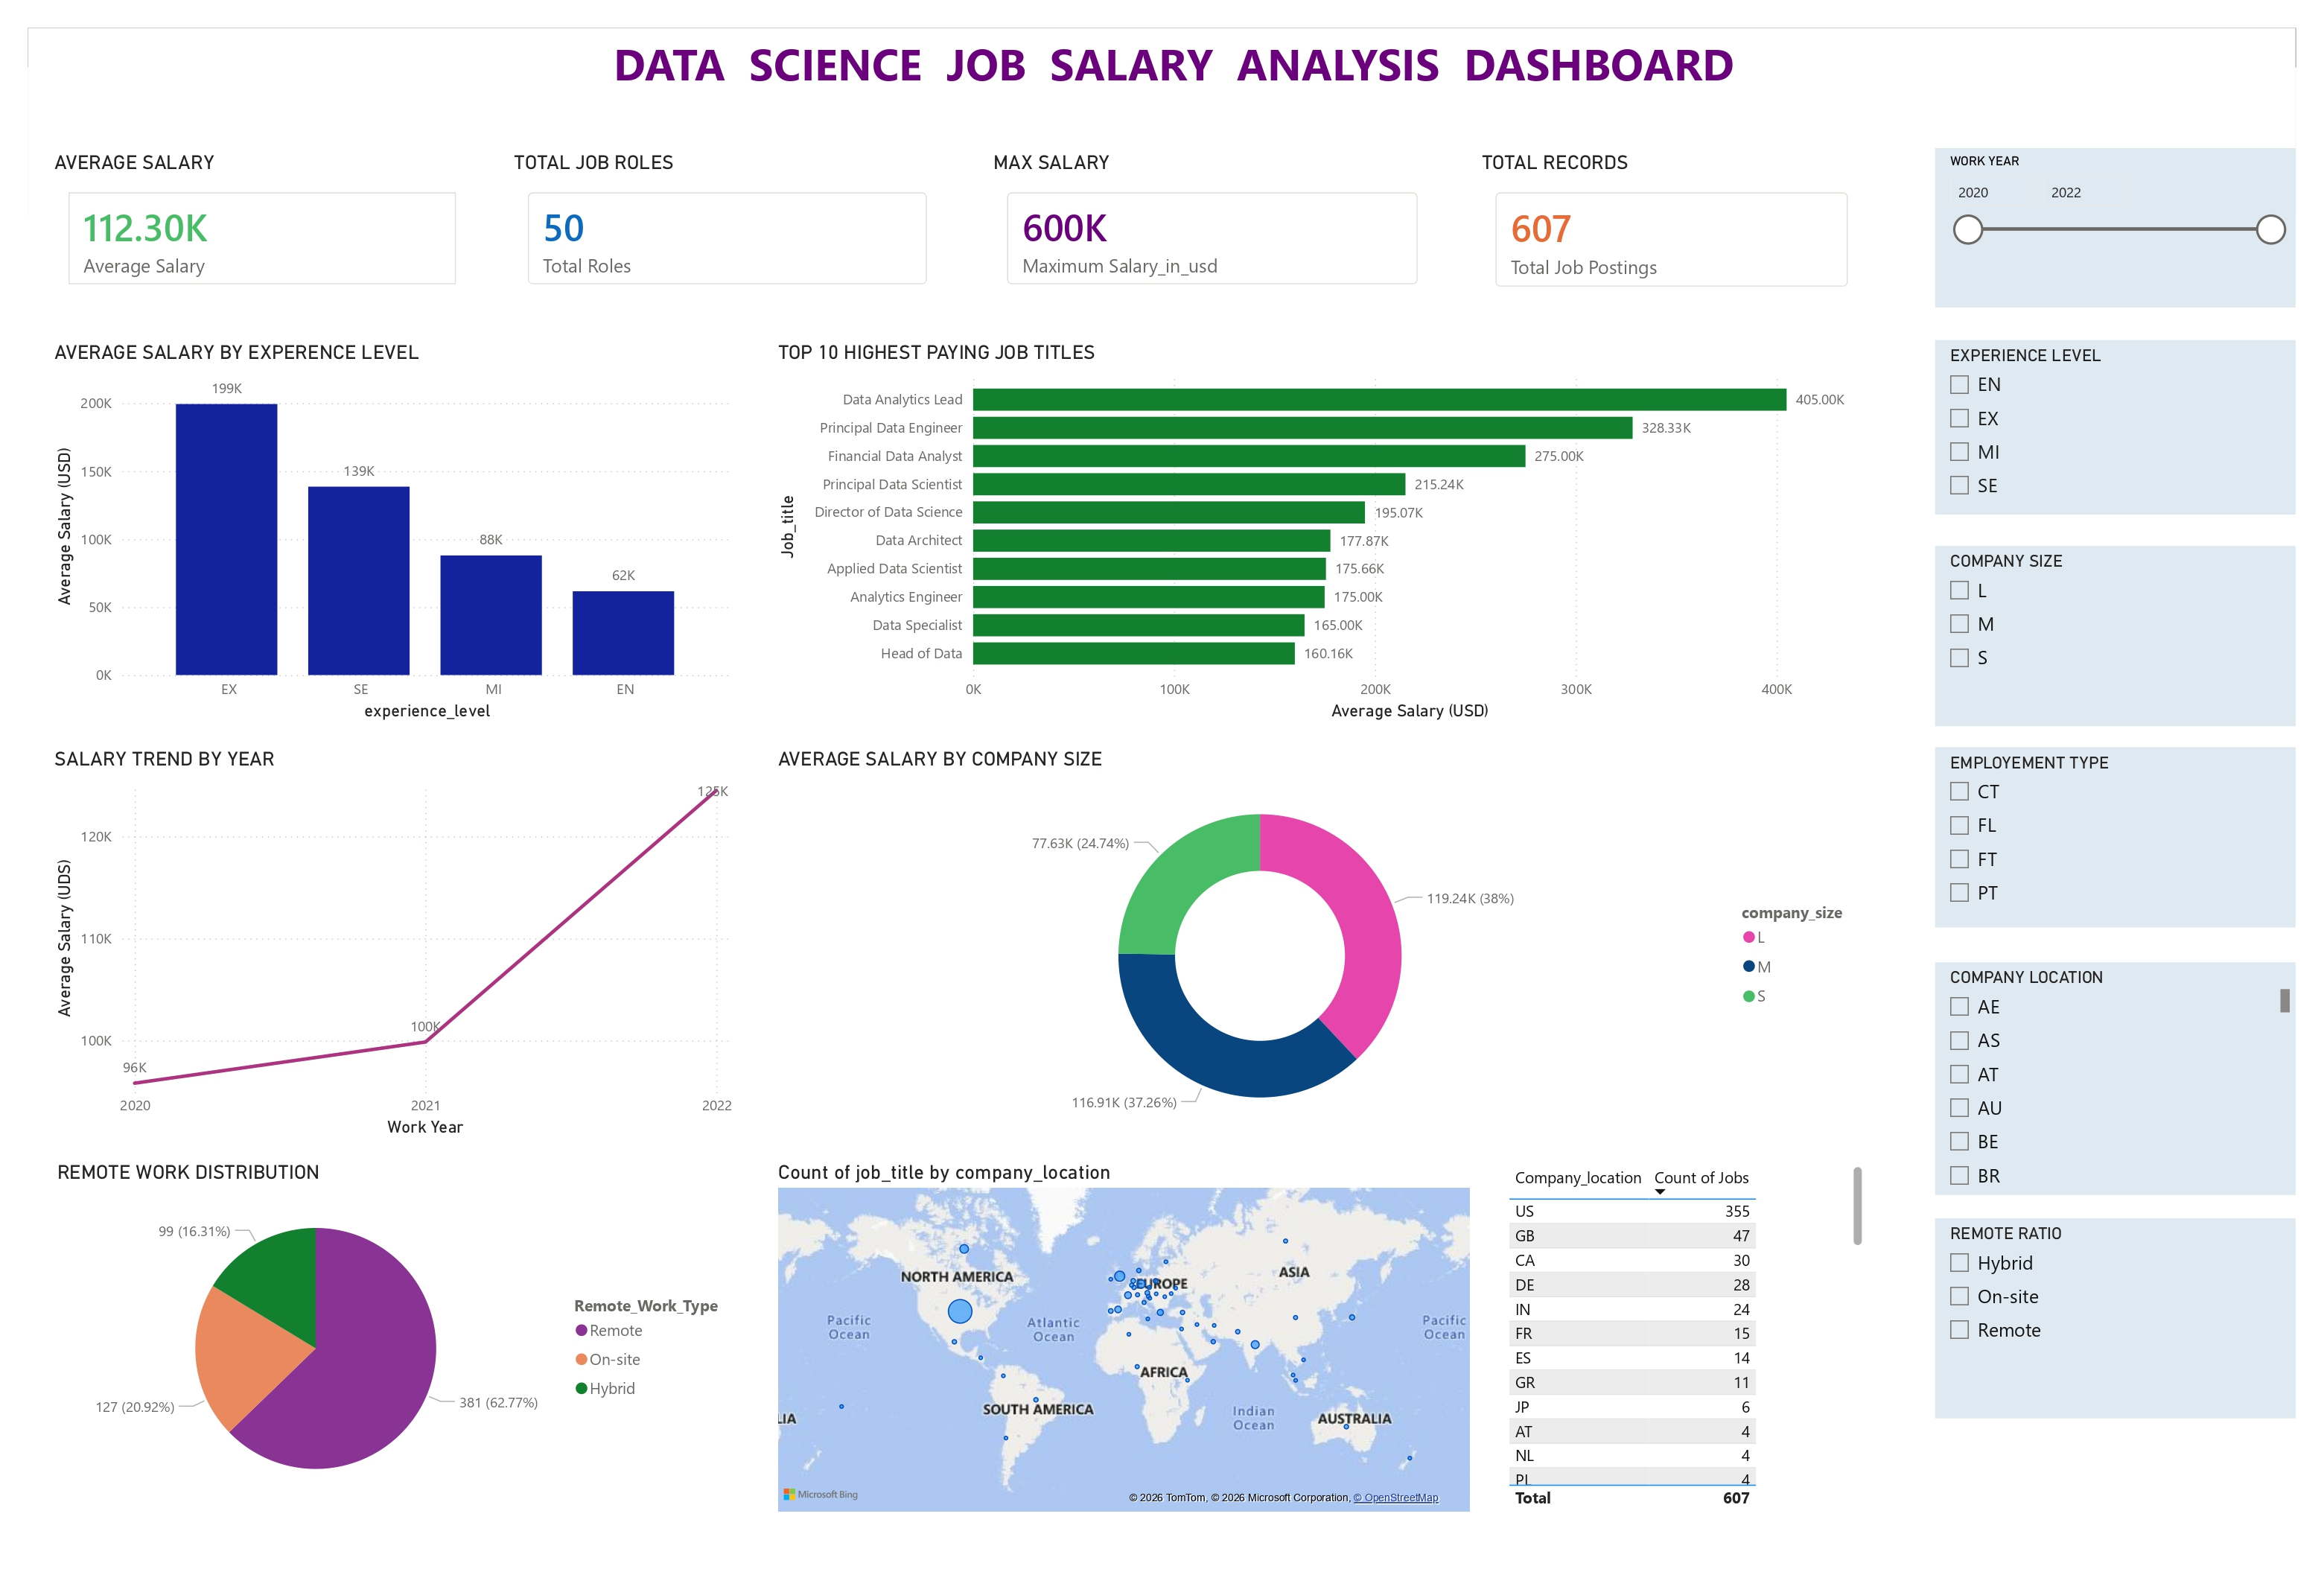

The page's visual inventory and layout, read from the dashboard file:
{"tool":"powerbi","page":{"name":"Page 1","canvas":[1950,1300],"ordinal":0},"visuals":[{"type":"cardVisual","title":"AVERAGE SALARY","fields":{"Data":["Avg(cleaned_ds_salaries csv.salary_in_usd)"]},"box":[17.5,105,367.5,132.5],"z":0},{"type":"cardVisual","title":"TOTAL JOB ROLES","fields":{"Data":["Count(cleaned_ds_salaries csv.job_title)"]},"box":[412.5,105,377.5,132.5],"z":1000},{"type":"clusteredColumnChart","title":"AVERAGE SALARY BY EXPERENCE LEVEL","fields":{"Category":["cleaned_ds_salaries csv.experience_level"],"Y":["Avg(cleaned_ds_salaries csv.salary_in_usd)"]},"box":[17.5,267.5,592.5,332.5],"z":2000},{"type":"clusteredBarChart","title":"TOP 10 HIGHEST PAYING JOB TITLES","fields":{"Y":["Avg(cleaned_ds_salaries csv.salary_in_usd)"],"Category":["cleaned_ds_salaries csv.job_title"]},"box":[640,267.5,942.5,332.5],"z":3000},{"type":"lineChart","title":"SALARY TREND BY  YEAR","fields":{"Category":["cleaned_ds_salaries csv.work_year"],"Y":["Avg(cleaned_ds_salaries csv.salary_in_usd)"]},"box":[17.5,617.5,592.5,340],"z":4000},{"type":"donutChart","title":"AVERAGE SALARY BY COMPANY SIZE","fields":{"Category":["cleaned_ds_salaries csv.company_size"],"Y":["Avg(cleaned_ds_salaries csv.salary_in_usd)"]},"box":[640,617.5,942.5,340],"z":5000},{"type":"cardVisual","title":"MAX SALARY","fields":{"Data":["Max(cleaned_ds_salaries csv.salary_in_usd)"]},"box":[825,105,387.5,132.5],"z":6000},{"type":"cardVisual","title":"TOTAL RECORDS","fields":{"Data":["CountNonNull(cleaned_ds_salaries csv.salary_in_usd)"]},"box":[1245,105,337.5,135],"z":7000},{"type":"pieChart","title":"REMOTE WORK DISTRIBUTION","fields":{"Y":["CountNonNull(cleaned_ds_salaries csv.remote_ratio)"],"Category":["cleaned_ds_salaries csv.Remote_Work_Type"]},"box":[20,972.5,592.5,305],"z":8000},{"type":"map","fields":{"Category":["cleaned_ds_salaries csv.company_location"],"Size":["CountNonNull(cleaned_ds_salaries csv.job_title)"]},"box":[640,972.5,605,307.5],"z":9000},{"type":"slicer","title":"WORK YEAR","fields":{"Values":["cleaned_ds_salaries csv.work_year"]},"box":[1640,102.5,310,137.5],"z":10000},{"type":"slicer","title":"EXPERIENCE LEVEL","fields":{"Values":["cleaned_ds_salaries csv.experience_level"]},"box":[1640,267.5,310,150],"z":11000},{"type":"slicer","fields":{"Values":["cleaned_ds_salaries csv.company_size"]},"box":[1640,445,310,155],"z":12000},{"type":"slicer","fields":{"Values":["cleaned_ds_salaries csv.employment_type"]},"box":[1640,617.5,310,155],"z":13000},{"type":"slicer","fields":{"Values":["cleaned_ds_salaries csv.company_location"]},"box":[1640,802.5,310,200],"z":14000},{"type":"slicer","fields":{"Values":["cleaned_ds_salaries csv.Remote_Work_Type"]},"box":[1640,1022.5,310,172.5],"z":15000},{"type":"tableEx","fields":{"Values":["cleaned_ds_salaries csv.company_location","cleaned_ds_salaries csv.job_title"]},"box":[1267.5,972.5,315,305],"z":16000},{"type":"textbox","box":[442.5,0,1085,72.5],"z":17000}]}

Visuals, with their boxes on the page's 1950x1300 design canvas (x1, y1, x2, y2). These are canvas units, not pixel positions in the 2324x1569 screenshot, which may show the page scaled, cropped or inside an application window:
"AVERAGE SALARY" cardVisual: <bbox>18, 105, 385, 238</bbox>
"TOTAL JOB ROLES" cardVisual: <bbox>412, 105, 790, 238</bbox>
"AVERAGE SALARY BY EXPERENCE LEVEL" clusteredColumnChart: <bbox>18, 268, 610, 600</bbox>
"TOP 10 HIGHEST PAYING JOB TITLES" clusteredBarChart: <bbox>640, 268, 1582, 600</bbox>
"SALARY TREND BY  YEAR" lineChart: <bbox>18, 618, 610, 958</bbox>
"AVERAGE SALARY BY COMPANY SIZE" donutChart: <bbox>640, 618, 1582, 958</bbox>
"MAX SALARY" cardVisual: <bbox>825, 105, 1212, 238</bbox>
"TOTAL RECORDS" cardVisual: <bbox>1245, 105, 1582, 240</bbox>
"REMOTE WORK DISTRIBUTION" pieChart: <bbox>20, 972, 612, 1278</bbox>
map - cleaned_ds_salaries csv.company_location x CountNonNull(cleaned_ds_salaries csv.job_title): <bbox>640, 972, 1245, 1280</bbox>
"WORK YEAR" slicer: <bbox>1640, 102, 1950, 240</bbox>
"EXPERIENCE LEVEL" slicer: <bbox>1640, 268, 1950, 418</bbox>
slicer - cleaned_ds_salaries csv.company_size: <bbox>1640, 445, 1950, 600</bbox>
slicer - cleaned_ds_salaries csv.employment_type: <bbox>1640, 618, 1950, 772</bbox>
slicer - cleaned_ds_salaries csv.company_location: <bbox>1640, 802, 1950, 1002</bbox>
slicer - cleaned_ds_salaries csv.Remote_Work_Type: <bbox>1640, 1022, 1950, 1195</bbox>
tableEx - cleaned_ds_salaries csv.company_location x cleaned_ds_salaries csv.job_title: <bbox>1268, 972, 1582, 1278</bbox>
textbox: <bbox>442, 0, 1528, 72</bbox>
